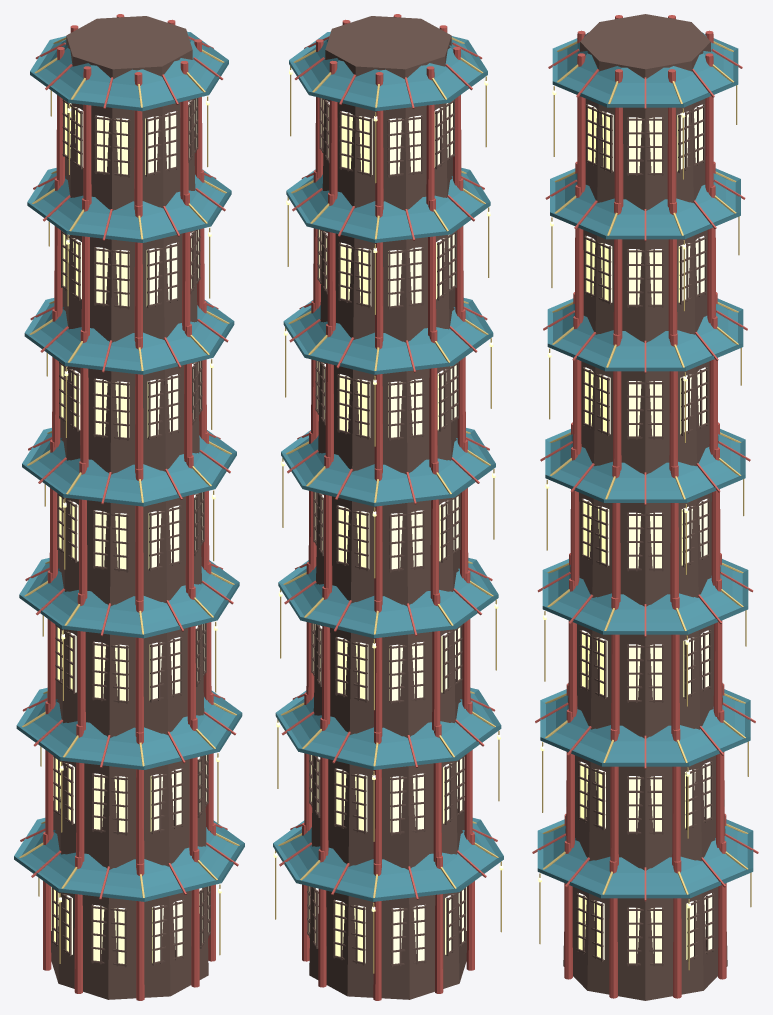
File: w3_monsoon_core.glb
3 renders of one model, left to right at view 1: azimuth 30°, elevation 25°; view 2: azimuth 150°, elevation 25°; view 3: azimuth 270°, elevation 25°, orthographic.
Visible parts, largest first — view 1: ShojiH_0_0_11.5, CurvedEave_0, Col_0_0, EaveLantern_0_0, CurvedEave_0_Ridge_1; view 2: ShojiH_0_0_11.5, CurvedEave_0, Col_0_0, EaveLantern_0_0, CurvedEave_0_Ridge_1; view 3: ShojiH_0_0_11.5, CurvedEave_0, Col_0_0, EaveLantern_0_0, CurvedEave_0_Ridge_1.
Part boxes in pixels (left/top/right/bottom): ShojiH_0_0_11.5: left=51, top=16, right=210, bottom=999; CurvedEave_0: left=14, top=31, right=244, bottom=901; Col_0_0: left=20, top=14, right=238, bottom=1000; EaveLantern_0_0: left=51, top=98, right=221, bottom=963; CurvedEave_0_Ridge_1: left=19, top=37, right=239, bottom=963; ShojiH_0_0_11.5: left=307, top=16, right=466, bottom=999; CurvedEave_0: left=273, top=31, right=503, bottom=901; Col_0_0: left=279, top=14, right=497, bottom=1000; EaveLantern_0_0: left=273, top=69, right=503, bottom=963; CurvedEave_0_Ridge_1: left=275, top=37, right=501, bottom=973; ShojiH_0_0_11.5: left=563, top=14, right=727, bottom=1000; CurvedEave_0: left=537, top=32, right=753, bottom=898; Col_0_0: left=532, top=15, right=758, bottom=998; EaveLantern_0_0: left=538, top=60, right=738, bottom=963; CurvedEave_0_Ridge_1: left=539, top=41, right=751, bottom=970.
Bounding box in the file's own units: 40.78 × 184 × 40.78.
